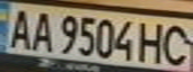0: (93, 16, 118, 60)
4: (112, 17, 139, 62)
5: (75, 14, 96, 57)
9: (54, 11, 78, 55)
A: (3, 6, 36, 51), (27, 8, 57, 52)
C: (157, 20, 193, 66)
H: (136, 18, 169, 64)
